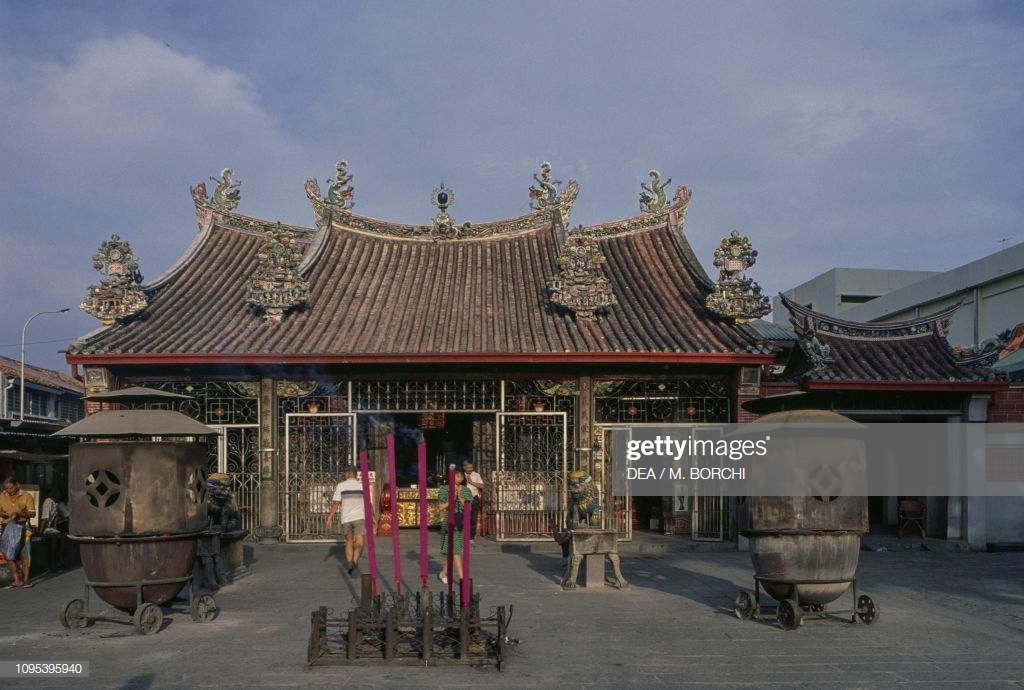Buddhist Temple: (80, 145, 754, 479)
